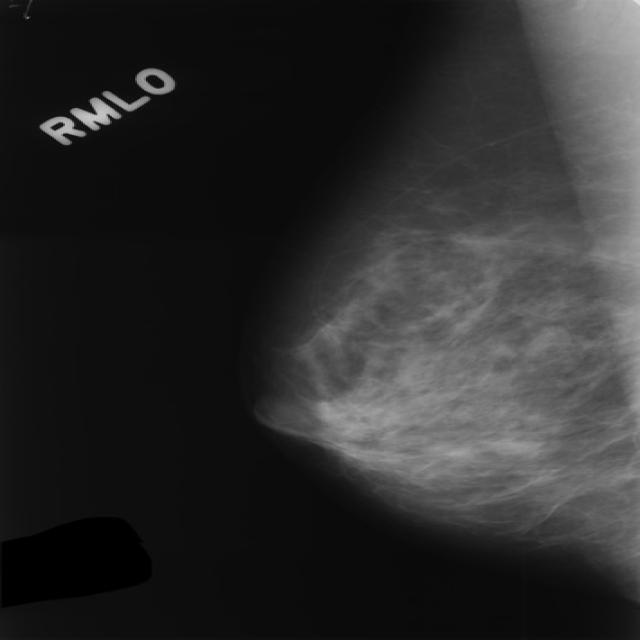tumour: (521, 324, 579, 365)
